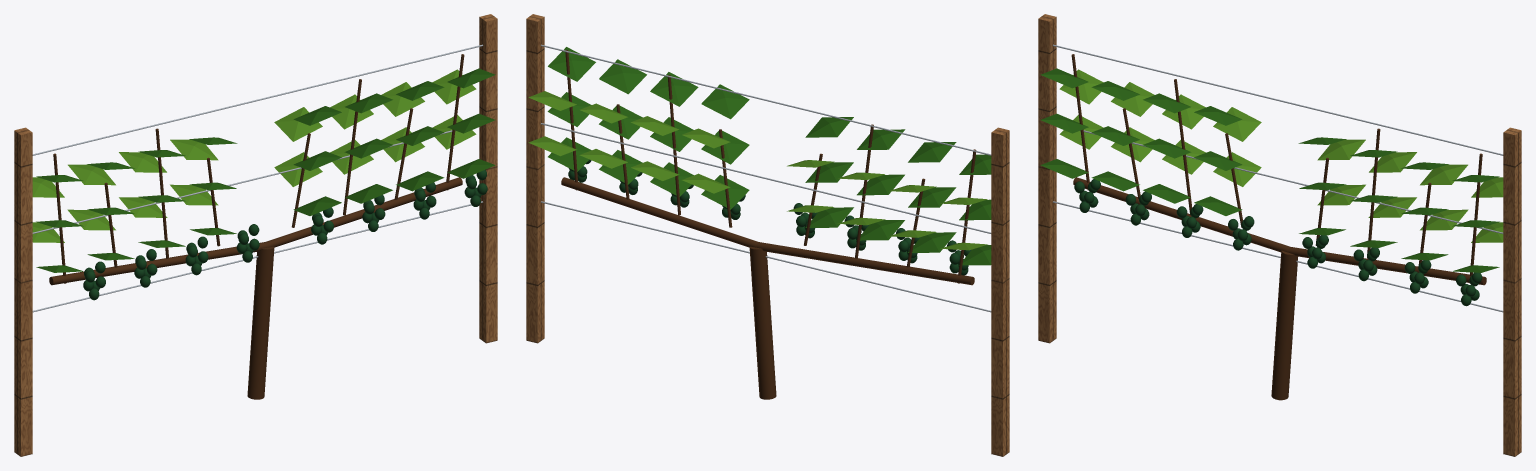
The model's file is Kordonos_szolo.obj.
3 views of the same model, side by side, from view 1: azimuth 30°, elevation 25°; view 2: azimuth 150°, elevation 25°; view 3: azimuth 330°, elevation 25° (orthographic).
Bounding box in the file's own units: 2.87 × 1.85 × 0.413.
Materials: 6 (1 with a texture image).
